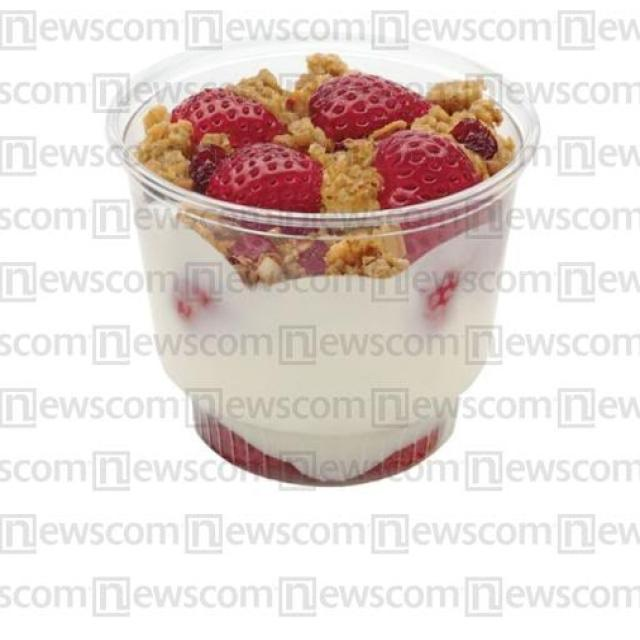蛋糕甜品: (46, 23, 610, 580)
